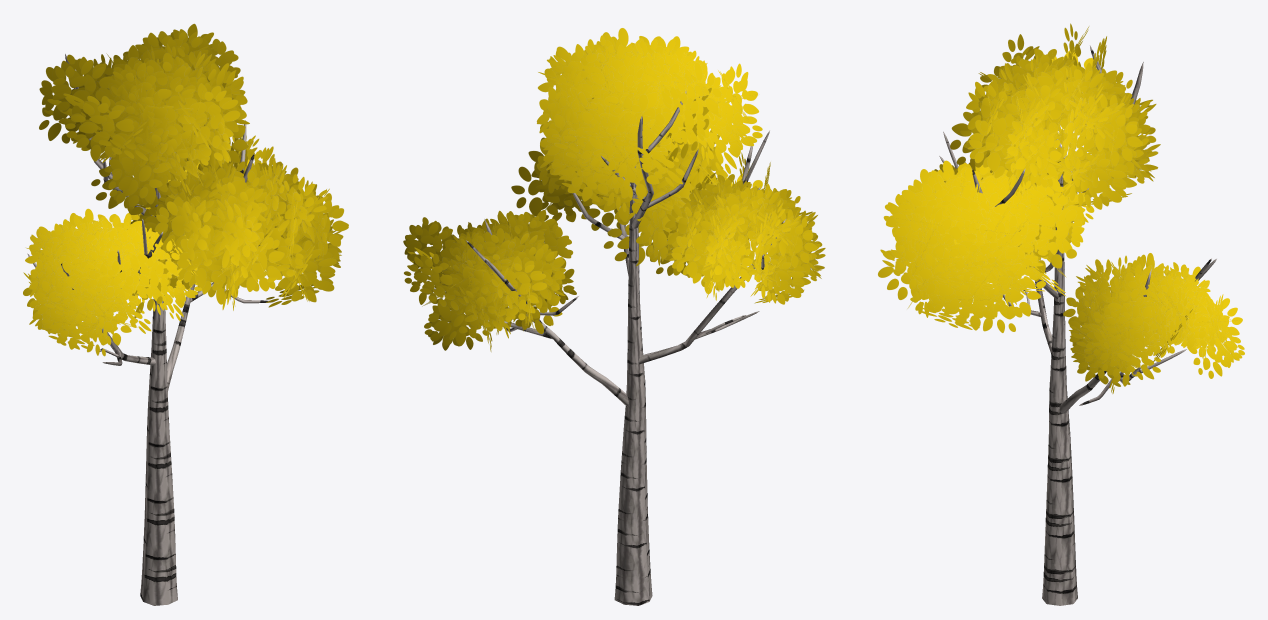
The model's file is BirchTree_5.glb.
The picture shows the model from 3 angles, left to right: view 1: azimuth 30°, elevation 25°; view 2: azimuth 150°, elevation 25°; view 3: azimuth 270°, elevation 25°; orthographic projection. The views are drawn at different scales.
Visible parts, largest first — view 1: BirchTree_5; view 2: BirchTree_5; view 3: BirchTree_5.
Part boxes in pixels (x1,y1,x2,y2): BirchTree_5: (23,23,348,605); BirchTree_5: (403,28,825,605); BirchTree_5: (878,23,1244,605).
Size of the model in its own units: 3.58 by 5.52 by 3.51.
2 materials, 2 textured.
